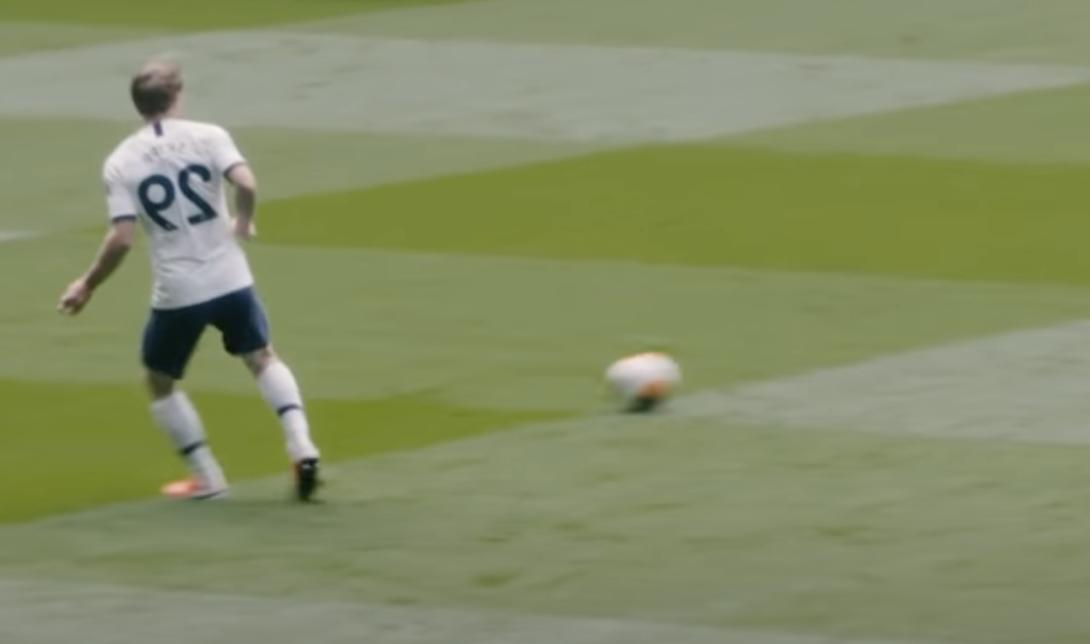ball: (608, 355, 680, 409)
foot: (159, 470, 223, 503), (290, 446, 323, 509)
person: (62, 64, 323, 508)
